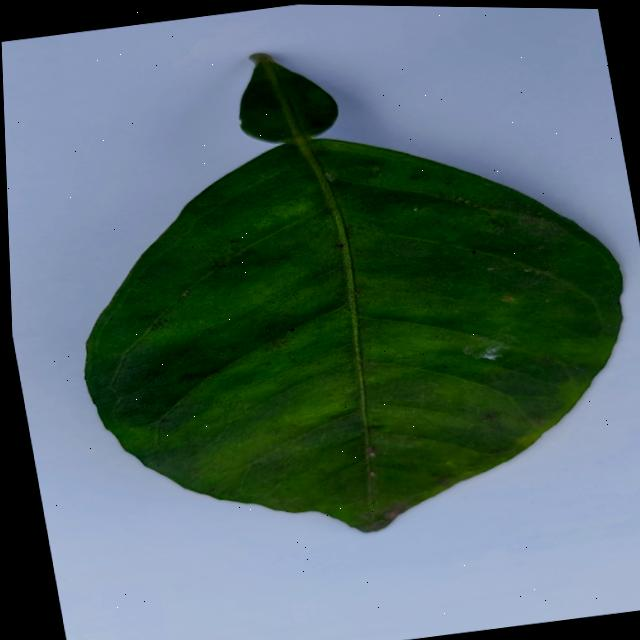greening: (85, 54, 621, 532)
